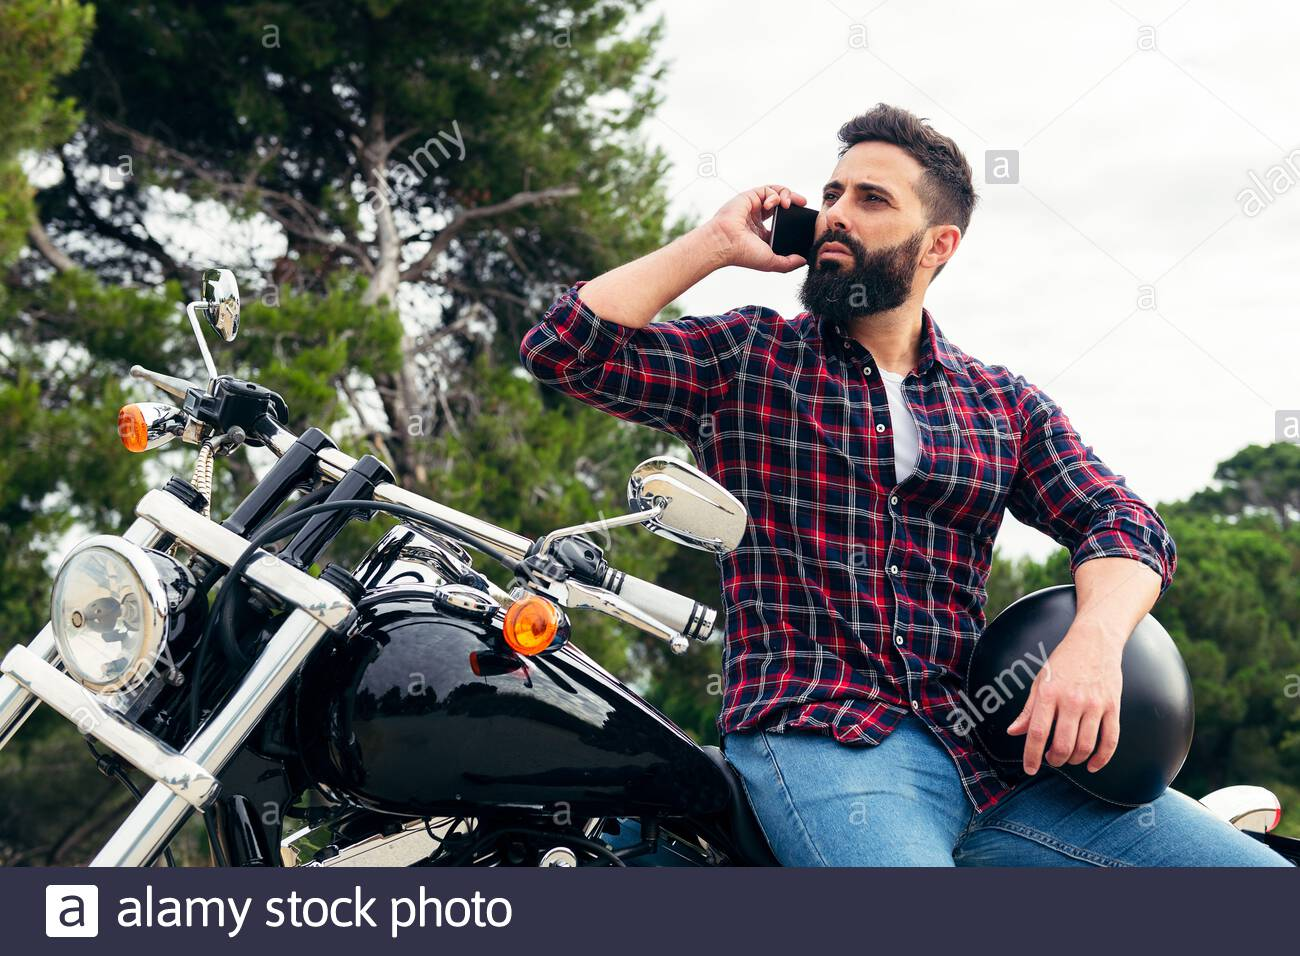su dung dien thoai: (707, 103, 975, 354)
